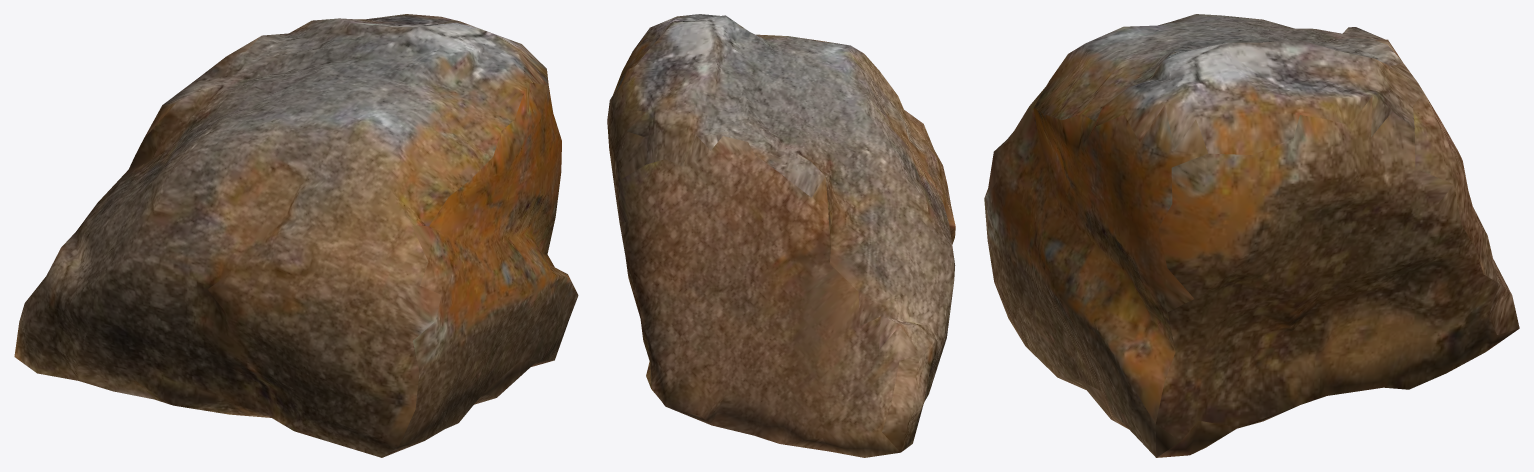
Rendered from namaqualand_boulder_04.glb.
The picture shows the model from 3 angles, left to right: view 1: azimuth 30°, elevation 25°; view 2: azimuth 150°, elevation 25°; view 3: azimuth 270°, elevation 25°; orthographic projection. The views are drawn at different scales.
Parts seen in each view (by area): view 1: lod0; view 2: lod0; view 3: lod0.
Part boxes in pixels (x1,y1,x2,y2): lod0: [14, 14, 578, 457]; lod0: [607, 14, 955, 457]; lod0: [984, 14, 1519, 457].
Size of what is drawn, in the model's own units: 3.58 by 2.68 by 3.56.
1 material, 1 textured.
